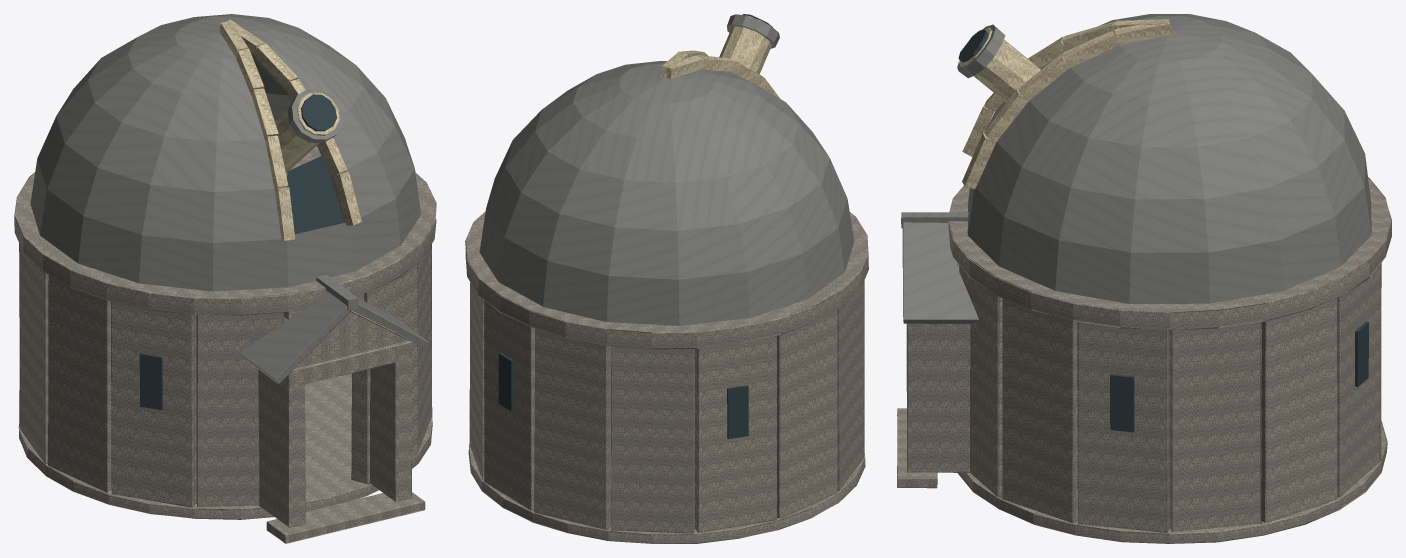
Rendered from observatory.glb.
The picture shows the model from 3 angles, left to right: view 1: azimuth 30°, elevation 25°; view 2: azimuth 150°, elevation 25°; view 3: azimuth 270°, elevation 25°; orthographic projection. The views are drawn at different scales.
Parts seen in each view (by area): view 1: Observatory; view 2: Observatory; view 3: Observatory.
Boxes of the visible parts, x1,y1,x2,y2 form: Observatory: [14, 14, 436, 543]; Observatory: [465, 14, 868, 543]; Observatory: [897, 14, 1391, 543].
Size of the model in its own units: 6.17 by 6.62 by 6.87.
4 materials, 3 textured.
